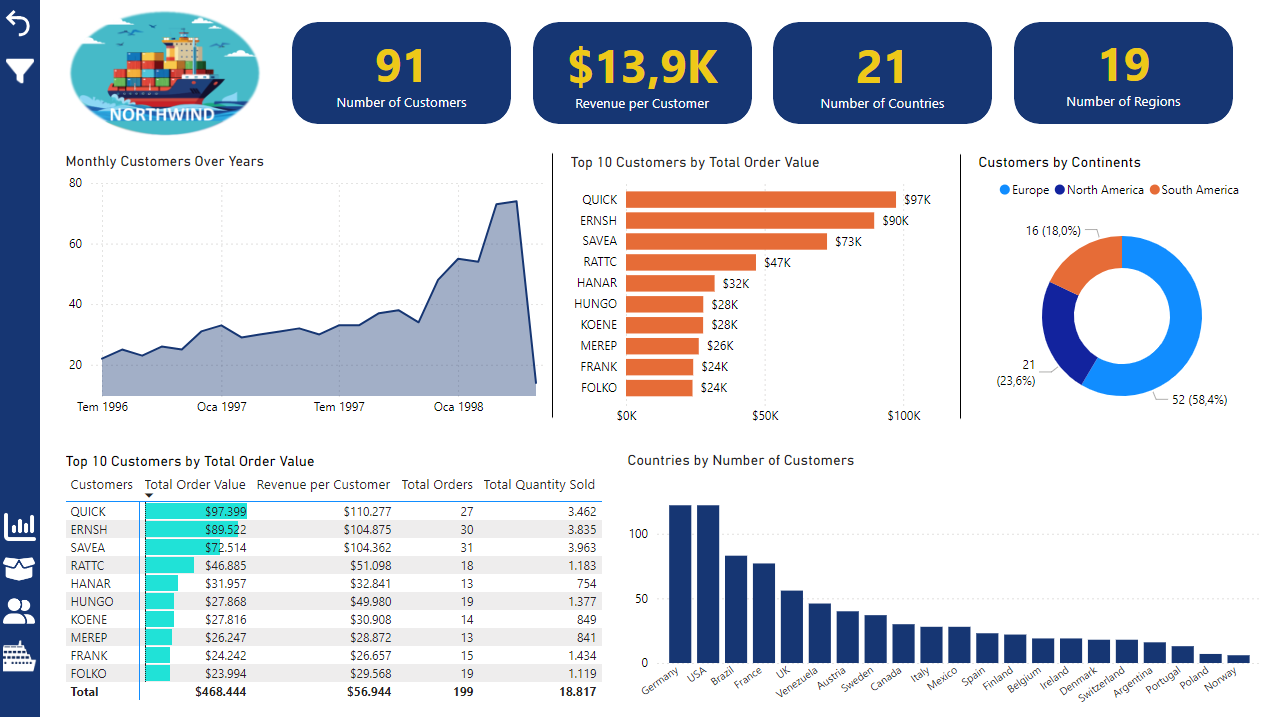

The dashboard page shown, as its layout file describes it:
{"tool":"powerbi","page":{"name":"Customers","canvas":[1280,720],"ordinal":2},"visuals":[{"type":"shape","title":"Left Nav Background","box":[0,0,41,720],"z":0},{"type":"group","id":"g1","title":"KPI Cards","box":[292.7,23.7,941,102],"z":0,"group":"g3"},{"type":"shape","box":[292.7,23.7,219,102],"z":0,"group":"g1"},{"type":"card","fields":{"Values":["ölçüler.Number of Customers"]},"box":[295.7,23.7,213,98],"z":0,"group":"g2"},{"type":"actionButton","box":[0,593.1,41,40],"z":0,"group":"g4"},{"type":"group","id":"g2","title":"KPI Values","box":[295.7,23.7,935,99.3],"z":1000,"group":"g3"},{"type":"shape","box":[533.4,23.7,219,102],"z":1000,"group":"g1"},{"type":"card","fields":{"Values":["ölçüler.Revenue per Customer"]},"box":[536.7,25.7,212,97],"z":1000,"group":"g2"},{"type":"actionButton","box":[3,55,39,36],"z":1000},{"type":"actionButton","box":[0,551.1,41,40],"z":1000,"group":"g4"},{"type":"actionButton","box":[0.5,7,41,36],"z":2000},{"type":"shape","box":[774,23.7,219,102],"z":2000,"group":"g1"},{"type":"card","fields":{"Values":["ölçüler.Number of Regions"]},"box":[1017.7,23.7,213,97],"z":2000,"group":"g2"},{"type":"actionButton","box":[0,635,42,46],"z":2000,"group":"g4"},{"type":"group","id":"g3","title":"KPIs","box":[292.7,23.7,941,102],"z":3000},{"type":"shape","box":[1014.7,23.7,219,102],"z":3000,"group":"g1"},{"type":"card","fields":{"Values":["ölçüler.Number of Countries"]},"box":[777,26,213,97],"z":3000,"group":"g2"},{"type":"actionButton","box":[1,509.2,41,40],"z":3000,"group":"g4"},{"type":"image","box":[39,7,254,136],"z":4000},{"type":"clusteredBarChart","title":"Top 10 Customers by Total Order Value","fields":{"Category":["top_10_customers.customer_id"],"Y":["Sum(top_10_customers.total_order_value)"]},"box":[567,156,391,280],"z":5000},{"type":"group","id":"g4","title":"Group 1","box":[0,509.2,42,171.8],"z":6000},{"type":"areaChart","title":"Monthly Customers Over Years","fields":{"Category":["Calender.year_month"],"Y":["CountNonNull(orders.customer_id)"]},"box":[62,155,505,272],"z":7000},{"type":"clusteredColumnChart","title":"Countries by Number of Customers","fields":{"Category":["orders.ship_country"],"Y":["CountNonNull(orders.customer_id)"]},"box":[624,454,643,264],"z":8000},{"type":"pivotTable","title":"Top 10 Customers by Total Order Value","fields":{"Rows":["customers.customer_id"],"Values":["Sum(top_10_customers.total_order_value)","ölçüler.Revenue per Customer","Sum(top_10_customers.total_orders)","Sum(top_10_customers.total_quantity_sold)"]},"box":[62,455,552,256],"z":9000},{"type":"donutChart","title":"Customers by Continents","fields":{"Y":["ölçüler.Customers by Continents"],"Category":["orders.Continent"]},"box":[975,156,296,280],"z":11000},{"type":"image","box":[950,147,25,284],"z":12000},{"type":"image","box":[542,146,25,284],"z":13000}]}

Visuals, with their boxes on the page's 1280x720 design canvas (x1, y1, x2, y2). These are canvas units, not pixel positions in the 1278x717 screenshot, which may show the page scaled, cropped or inside an application window:
"Left Nav Background" shape: pyautogui.locateOnScreen(0, 0, 41, 720)
"KPI Cards" group: pyautogui.locateOnScreen(293, 24, 1234, 126)
shape: pyautogui.locateOnScreen(293, 24, 512, 126)
card - ölçüler.Number of Customers: pyautogui.locateOnScreen(296, 24, 509, 122)
actionButton: pyautogui.locateOnScreen(0, 593, 41, 633)
"KPI Values" group: pyautogui.locateOnScreen(296, 24, 1231, 123)
shape: pyautogui.locateOnScreen(533, 24, 752, 126)
card - ölçüler.Revenue per Customer: pyautogui.locateOnScreen(537, 26, 749, 123)
actionButton: pyautogui.locateOnScreen(3, 55, 42, 91)
actionButton: pyautogui.locateOnScreen(0, 551, 41, 591)
actionButton: pyautogui.locateOnScreen(0, 7, 42, 43)
shape: pyautogui.locateOnScreen(774, 24, 993, 126)
card - ölçüler.Number of Regions: pyautogui.locateOnScreen(1018, 24, 1231, 121)
actionButton: pyautogui.locateOnScreen(0, 635, 42, 681)
"KPIs" group: pyautogui.locateOnScreen(293, 24, 1234, 126)
shape: pyautogui.locateOnScreen(1015, 24, 1234, 126)
card - ölçüler.Number of Countries: pyautogui.locateOnScreen(777, 26, 990, 123)
actionButton: pyautogui.locateOnScreen(1, 509, 42, 549)
image: pyautogui.locateOnScreen(39, 7, 293, 143)
"Top 10 Customers by Total Order Value" clusteredBarChart: pyautogui.locateOnScreen(567, 156, 958, 436)
"Group 1" group: pyautogui.locateOnScreen(0, 509, 42, 681)
"Monthly Customers Over Years" areaChart: pyautogui.locateOnScreen(62, 155, 567, 427)
"Countries by Number of Customers" clusteredColumnChart: pyautogui.locateOnScreen(624, 454, 1267, 718)
"Top 10 Customers by Total Order Value" pivotTable: pyautogui.locateOnScreen(62, 455, 614, 711)
"Customers by Continents" donutChart: pyautogui.locateOnScreen(975, 156, 1271, 436)
image: pyautogui.locateOnScreen(950, 147, 975, 431)
image: pyautogui.locateOnScreen(542, 146, 567, 430)
